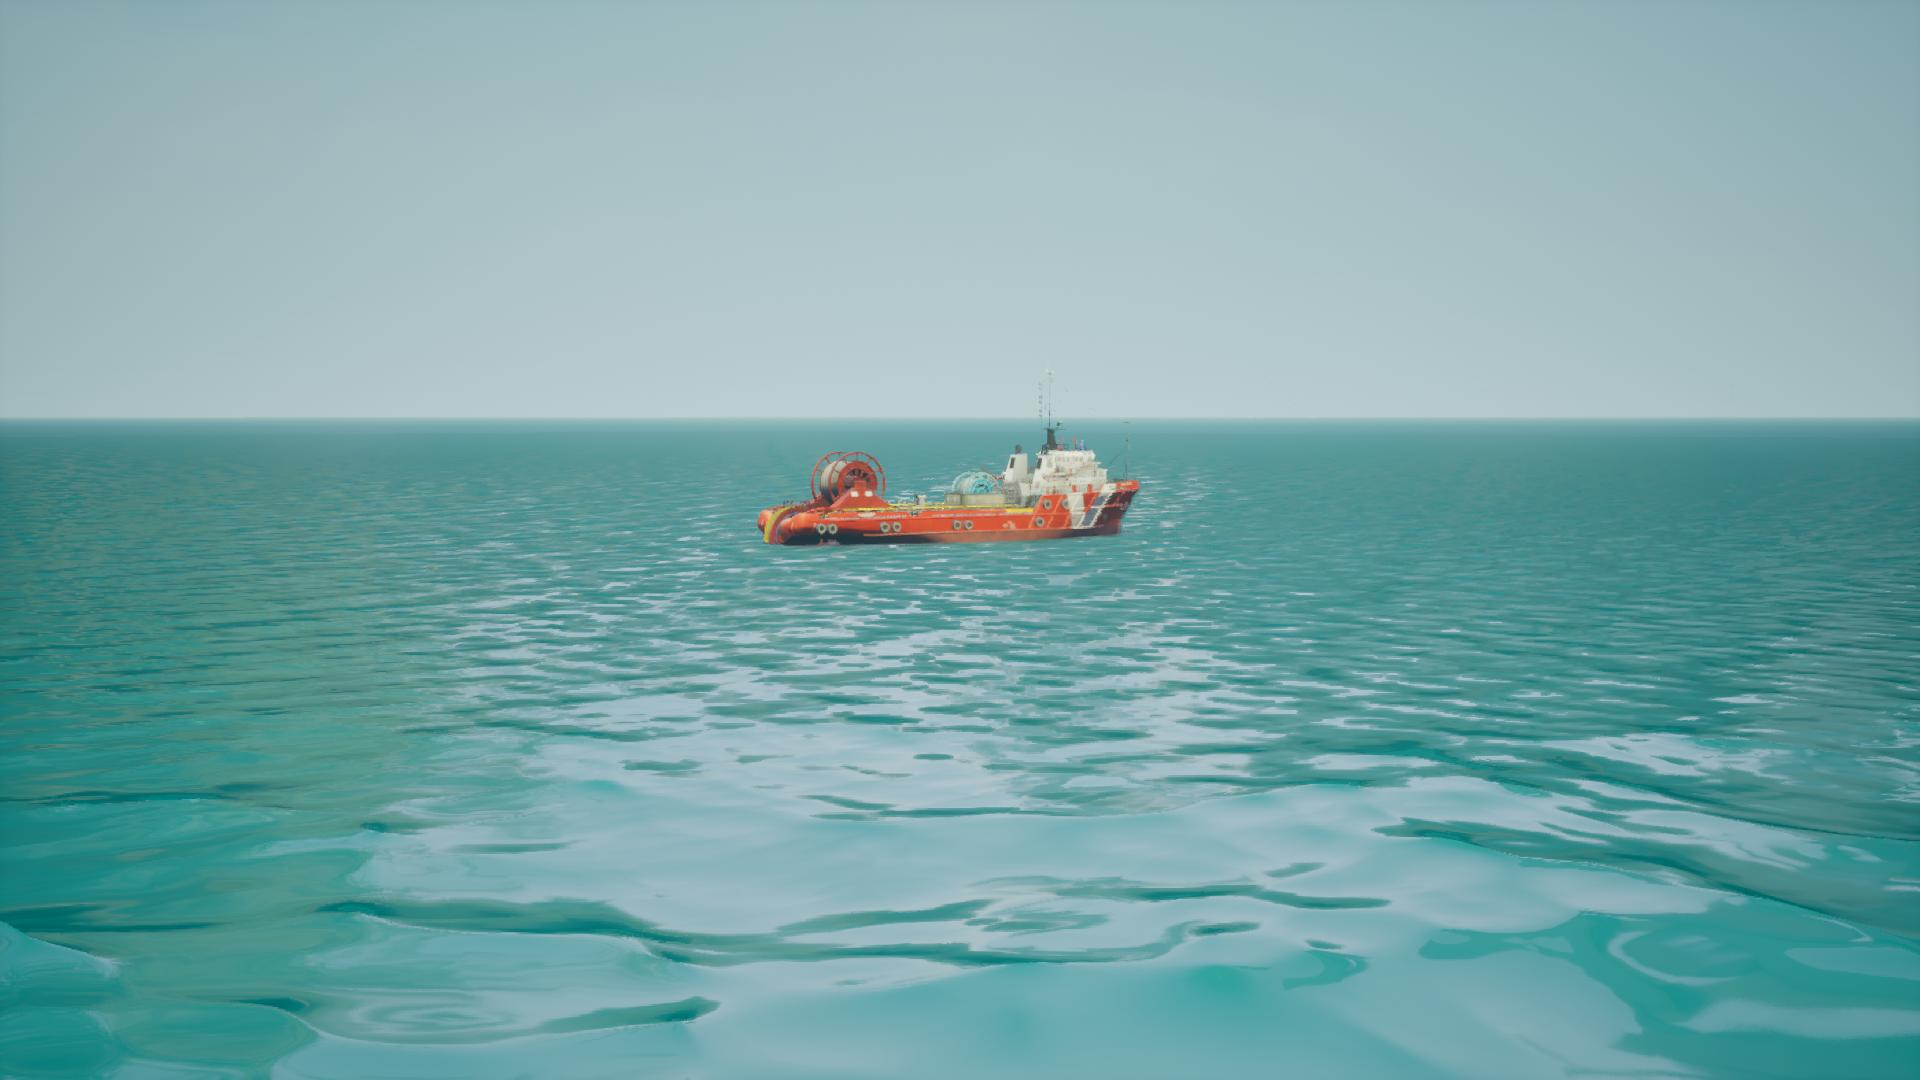Tug Boat: (754, 442, 1151, 546)
